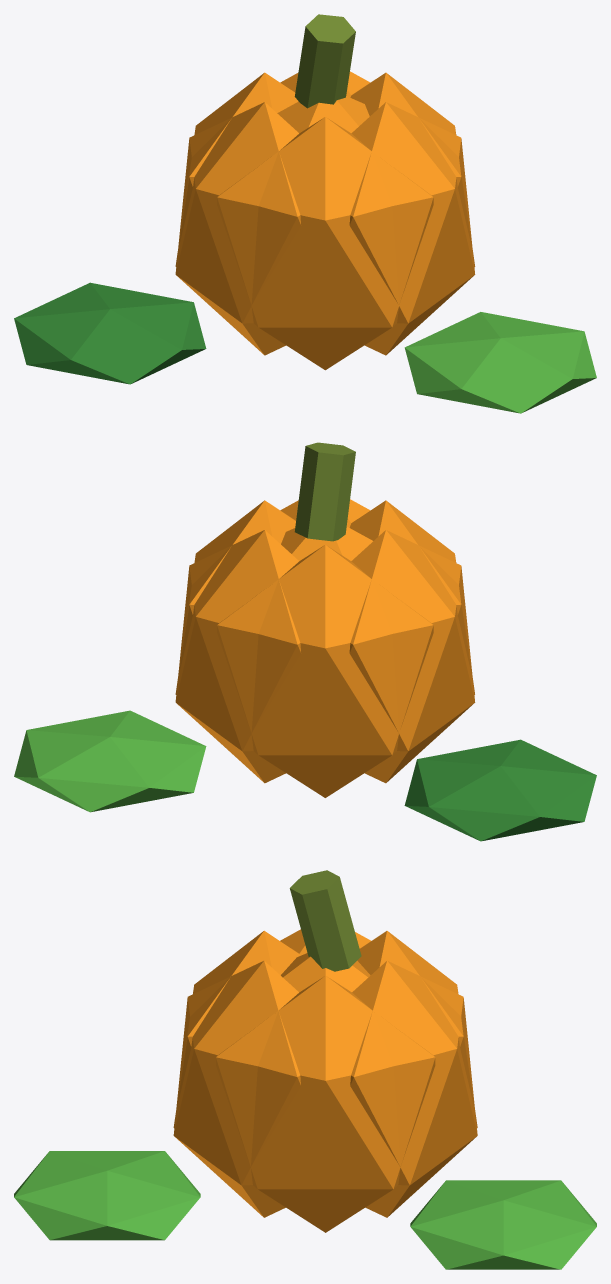
Rendered from crop_pumpkin_3.glb.
3 renders of one model, top to bottom at view 1: azimuth 30°, elevation 25°; view 2: azimuth 150°, elevation 25°; view 3: azimuth 270°, elevation 25°, orthographic.
Parts seen in each view (by area): view 1: crop_pumpkin_3; view 2: crop_pumpkin_3; view 3: crop_pumpkin_3.
Boxes of the visible parts, x1,y1,x2,y2 form: crop_pumpkin_3: [14, 14, 596, 413]; crop_pumpkin_3: [14, 442, 596, 841]; crop_pumpkin_3: [14, 870, 596, 1269].
Bounding box in the file's own units: 1.16 × 0.7255 × 1.17.
